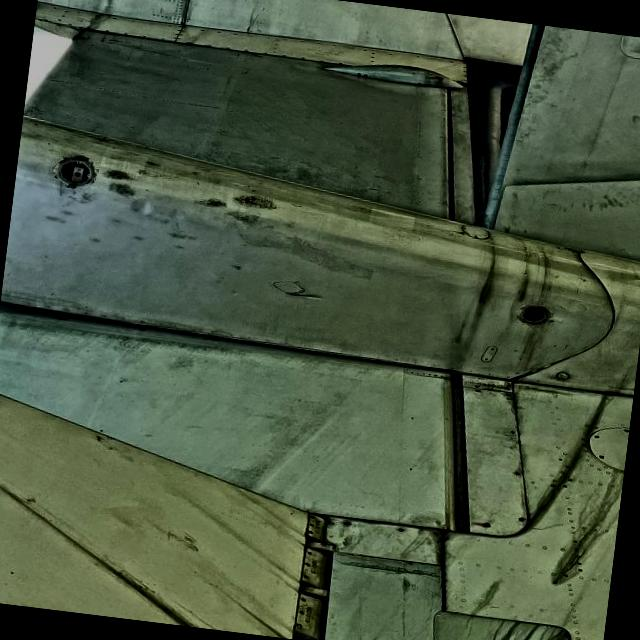crack: (282, 290, 326, 302)
